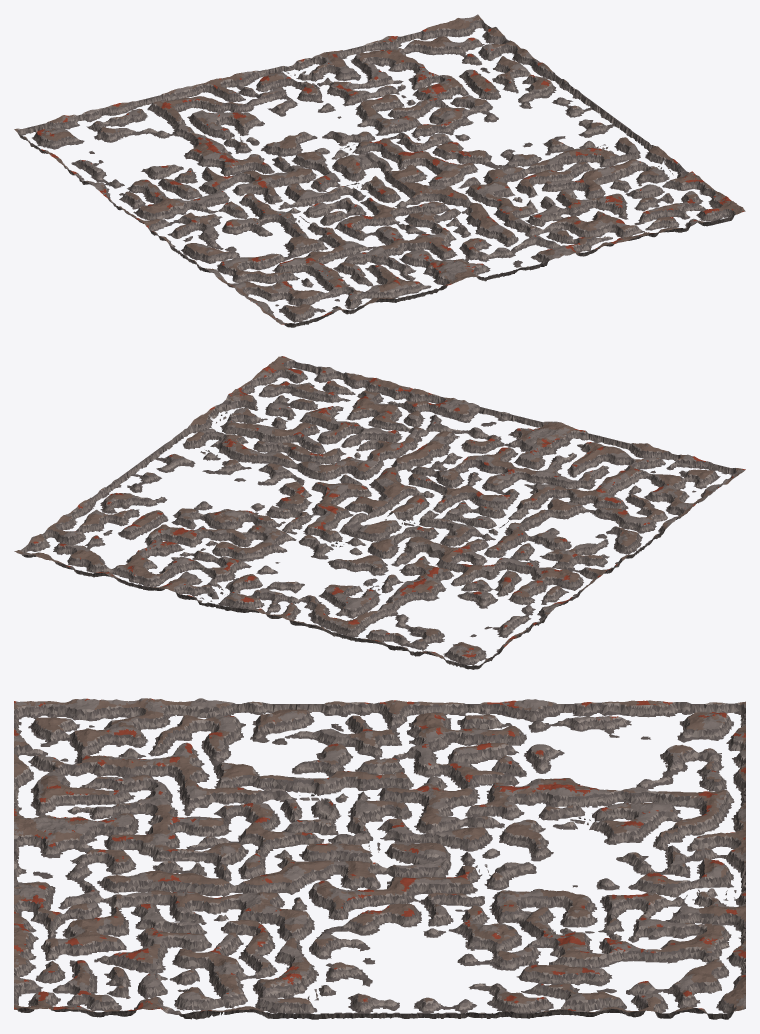
Rendered from Dungeon-3D-Relief.fbx.
3 views of the same model, one above another, from view 1: azimuth 30°, elevation 25°; view 2: azimuth 150°, elevation 25°; view 3: azimuth 270°, elevation 25° (orthographic). The views are drawn at different scales.
Visible parts, largest first — view 1: Dungeon-3D-Relief-c77, Dungeon-3D-Relief-c37, Dungeon-3D-Relief-c21, Dungeon-3D-Relief-c62, Dungeon-3D-Relief-c42, Dungeon-3D-Relief-c24, Dungeon-3D-Relief-c44, Dungeon-3D-Relief-c41, Dungeon-3D-Relief-c72, Dungeon-3D-Relief-c43, Dungeon-3D-Relief-c67, Dungeon-3D-Relief-c70 (+50 smaller); view 2: Dungeon-3D-Relief-c43, Dungeon-3D-Relief-c70, Dungeon-3D-Relief-c50, Dungeon-3D-Relief-c55, Dungeon-3D-Relief-c60, Dungeon-3D-Relief-c47, Dungeon-3D-Relief-c11, Dungeon-3D-Relief-c20, Dungeon-3D-Relief-c10, Dungeon-3D-Relief-c72, Dungeon-3D-Relief-c27, Dungeon-3D-Relief-c42 (+50 smaller); view 3: Dungeon-3D-Relief-c01, Dungeon-3D-Relief-c04, Dungeon-3D-Relief-c00, Dungeon-3D-Relief-c30, Dungeon-3D-Relief-c34, Dungeon-3D-Relief-c31, Dungeon-3D-Relief-c02, Dungeon-3D-Relief-c44, Dungeon-3D-Relief-c32, Dungeon-3D-Relief-c57, Dungeon-3D-Relief-c52, Dungeon-3D-Relief-c25 (+50 smaller).
Boxes of the visible parts, x1=… form: Dungeon-3D-Relief-c77: x1=420, y1=14, x2=510, y2=57; Dungeon-3D-Relief-c37: x1=188, y1=72, x2=274, y2=112; Dungeon-3D-Relief-c21: x1=333, y1=233, x2=422, y2=276; Dungeon-3D-Relief-c62: x1=531, y1=153, x2=616, y2=192; Dungeon-3D-Relief-c42: x1=414, y1=184, x2=504, y2=226; Dungeon-3D-Relief-c24: x1=232, y1=163, x2=321, y2=204; Dungeon-3D-Relief-c44: x1=347, y1=134, x2=435, y2=175; Dungeon-3D-Relief-c41: x1=447, y1=205, x2=536, y2=250; Dungeon-3D-Relief-c72: x1=588, y1=141, x2=678, y2=179; Dungeon-3D-Relief-c43: x1=384, y1=157, x2=469, y2=198; Dungeon-3D-Relief-c67: x1=362, y1=32, x2=444, y2=71; Dungeon-3D-Relief-c70: x1=660, y1=188, x2=745, y2=231; Dungeon-3D-Relief-c43: x1=322, y1=478, x2=413, y2=516; Dungeon-3D-Relief-c70: x1=249, y1=356, x2=339, y2=399; Dungeon-3D-Relief-c50: x1=365, y1=384, x2=455, y2=427; Dungeon-3D-Relief-c55: x1=197, y1=509, x2=288, y2=547; Dungeon-3D-Relief-c60: x1=309, y1=372, x2=397, y2=410; Dungeon-3D-Relief-c47: x1=188, y1=571, x2=271, y2=612; Dungeon-3D-Relief-c11: x1=563, y1=468, x2=641, y2=509; Dungeon-3D-Relief-c20: x1=540, y1=427, x2=630, y2=470; Dungeon-3D-Relief-c10: x1=600, y1=443, x2=688, y2=485; Dungeon-3D-Relief-c72: x1=182, y1=406, x2=265, y2=444; Dungeon-3D-Relief-c27: x1=306, y1=600, x2=384, y2=642; Dungeon-3D-Relief-c42: x1=356, y1=448, x2=446, y2=487; Dungeon-3D-Relief-c01: x1=104, y1=698, x2=197, y2=749; Dungeon-3D-Relief-c04: x1=379, y1=700, x2=473, y2=750; Dungeon-3D-Relief-c00: x1=14, y1=698, x2=106, y2=749; Dungeon-3D-Relief-c30: x1=14, y1=816, x2=106, y2=865; Dungeon-3D-Relief-c34: x1=380, y1=816, x2=472, y2=865; Dungeon-3D-Relief-c31: x1=104, y1=816, x2=197, y2=865; Dungeon-3D-Relief-c02: x1=196, y1=698, x2=289, y2=749; Dungeon-3D-Relief-c44: x1=379, y1=859, x2=472, y2=904; Dungeon-3D-Relief-c32: x1=196, y1=817, x2=289, y2=865; Dungeon-3D-Relief-c57: x1=653, y1=895, x2=745, y2=942; Dungeon-3D-Relief-c52: x1=196, y1=893, x2=289, y2=942; Dungeon-3D-Relief-c25: x1=470, y1=779, x2=563, y2=826.
Size of the model in its own units: 132 by 2.93 by 132.
